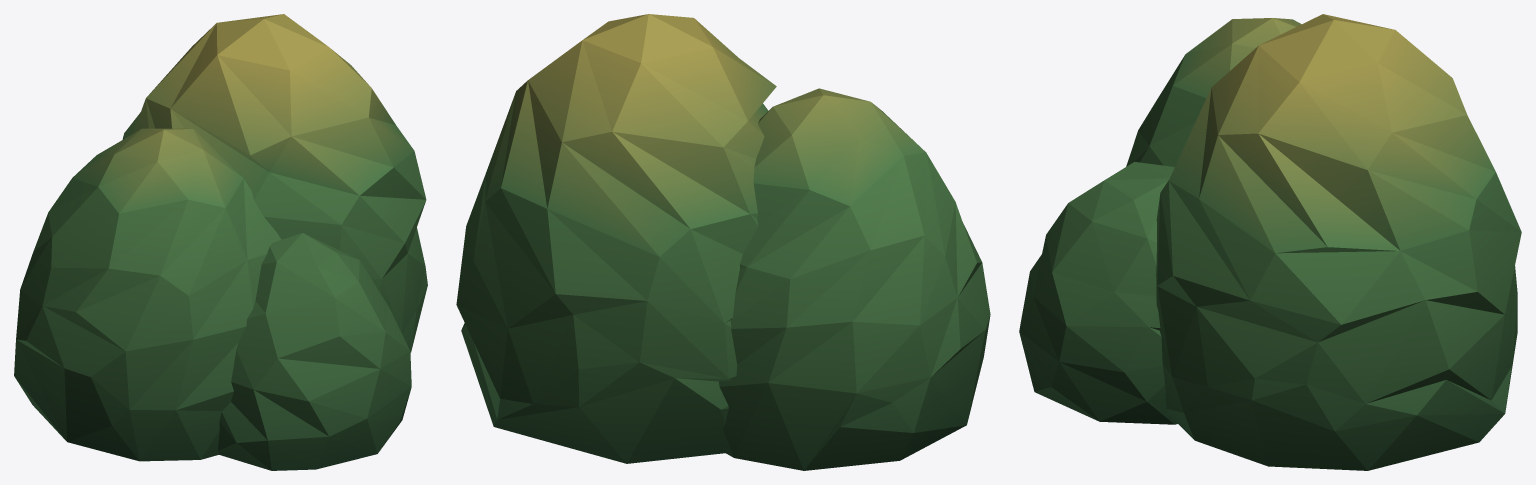
Rendered from lp_bush_bloom_01.glb.
3 views of the same model, side by side, from view 1: azimuth 30°, elevation 25°; view 2: azimuth 150°, elevation 25°; view 3: azimuth 270°, elevation 25° (orthographic). The views are drawn at different scales.
Parts seen in each view (by area): view 1: bush_01; view 2: bush_01; view 3: bush_01.
Part boxes in pixels (left/top/right/bottom): bush_01: left=14, top=14, right=427, bottom=470; bush_01: left=456, top=14, right=990, bottom=470; bush_01: left=1019, top=14, right=1521, bottom=470.
Size of the model in its own units: 2.53 by 2.01 by 2.39.
